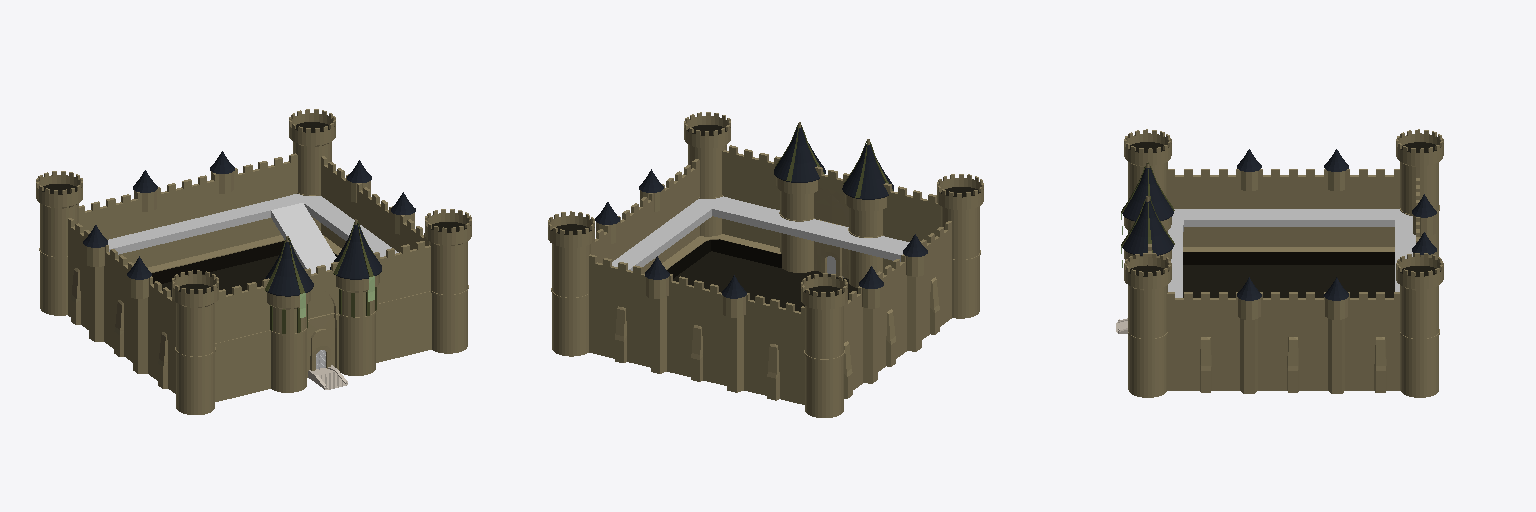
File: darkcastle.obj
3 views of the same model, side by side, from view 1: azimuth 30°, elevation 25°; view 2: azimuth 150°, elevation 25°; view 3: azimuth 270°, elevation 25° (orthographic).
Parts seen in each view (by area): view 1: Castle_Catle, Cube.003, Plane, Cube, Plane.001; view 2: Castle_Catle, Plane, Cube.002, Cube, Plane.001; view 3: Castle_Catle, Plane, Cube.001, Plane.001, Cube.002, Cube.003.
Boxes of the visible parts, box(x1,y1,x2,y2) form: Castle_Catle: box(36, 109, 471, 414); Cube.003: box(108, 195, 336, 273); Plane: box(42, 122, 466, 296); Cube: box(293, 194, 398, 256); Plane.001: box(152, 241, 336, 283); Castle_Catle: box(548, 112, 983, 417); Plane: box(551, 125, 980, 311); Cube.002: box(709, 197, 909, 261); Cube: box(612, 196, 727, 270); Plane.001: box(667, 239, 781, 278); Castle_Catle: box(1116, 129, 1443, 397); Plane: box(1129, 142, 1440, 297); Cube.001: box(1172, 209, 1412, 226); Plane.001: box(1183, 252, 1394, 264); Cube.002: box(1168, 219, 1183, 297); Cube.003: box(1395, 220, 1415, 291).
Size of the model in its own units: 54.15 by 26.86 by 52.2.